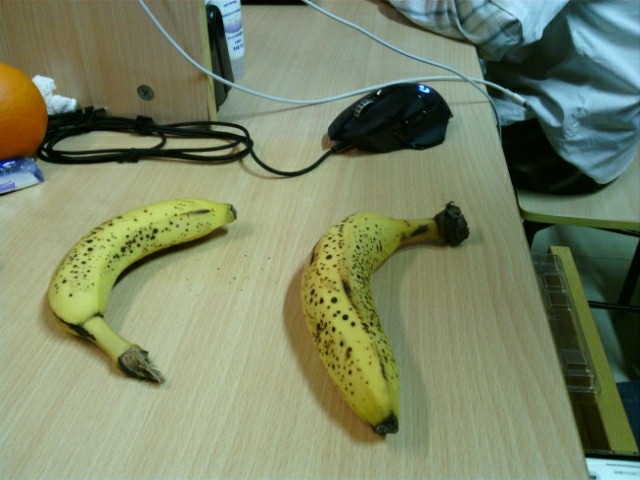normal_banana: (298, 201, 467, 436), (47, 198, 239, 386)
